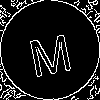M: (25, 25, 74, 77)
